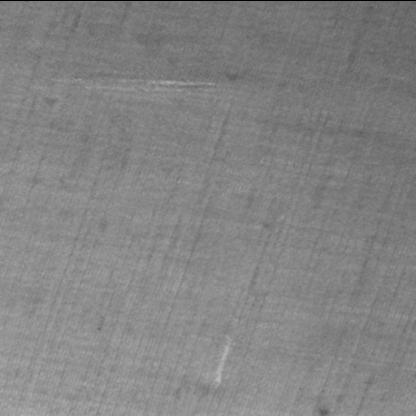thread error: (42, 74, 218, 98), (204, 330, 240, 396)
